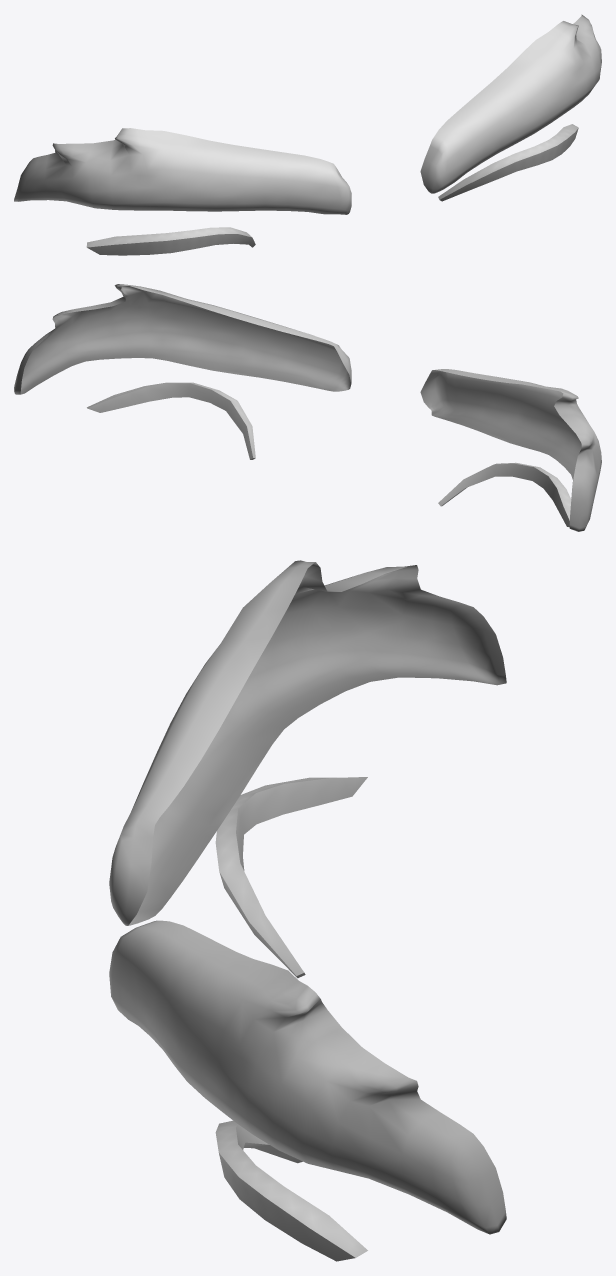
The model's file is brows_01.glb.
The picture shows the model from 3 angles, top to bottom: view 1: azimuth 30°, elevation 25°; view 2: azimuth 150°, elevation 25°; view 3: azimuth 270°, elevation 25°; orthographic projection. The views are drawn at different scales.
Visible parts, largest first — view 1: brows_01; view 2: brows_01; view 3: brows_01.
Part boxes in pixels (x1,y1,x2,y2): brows_01: (14,14,601,255); brows_01: (14,284,601,531); brows_01: (109,560,506,1261).
Bounding box in the file's own units: 0.1247 × 0.0306 × 0.0375.
1 material, 1 textured.
